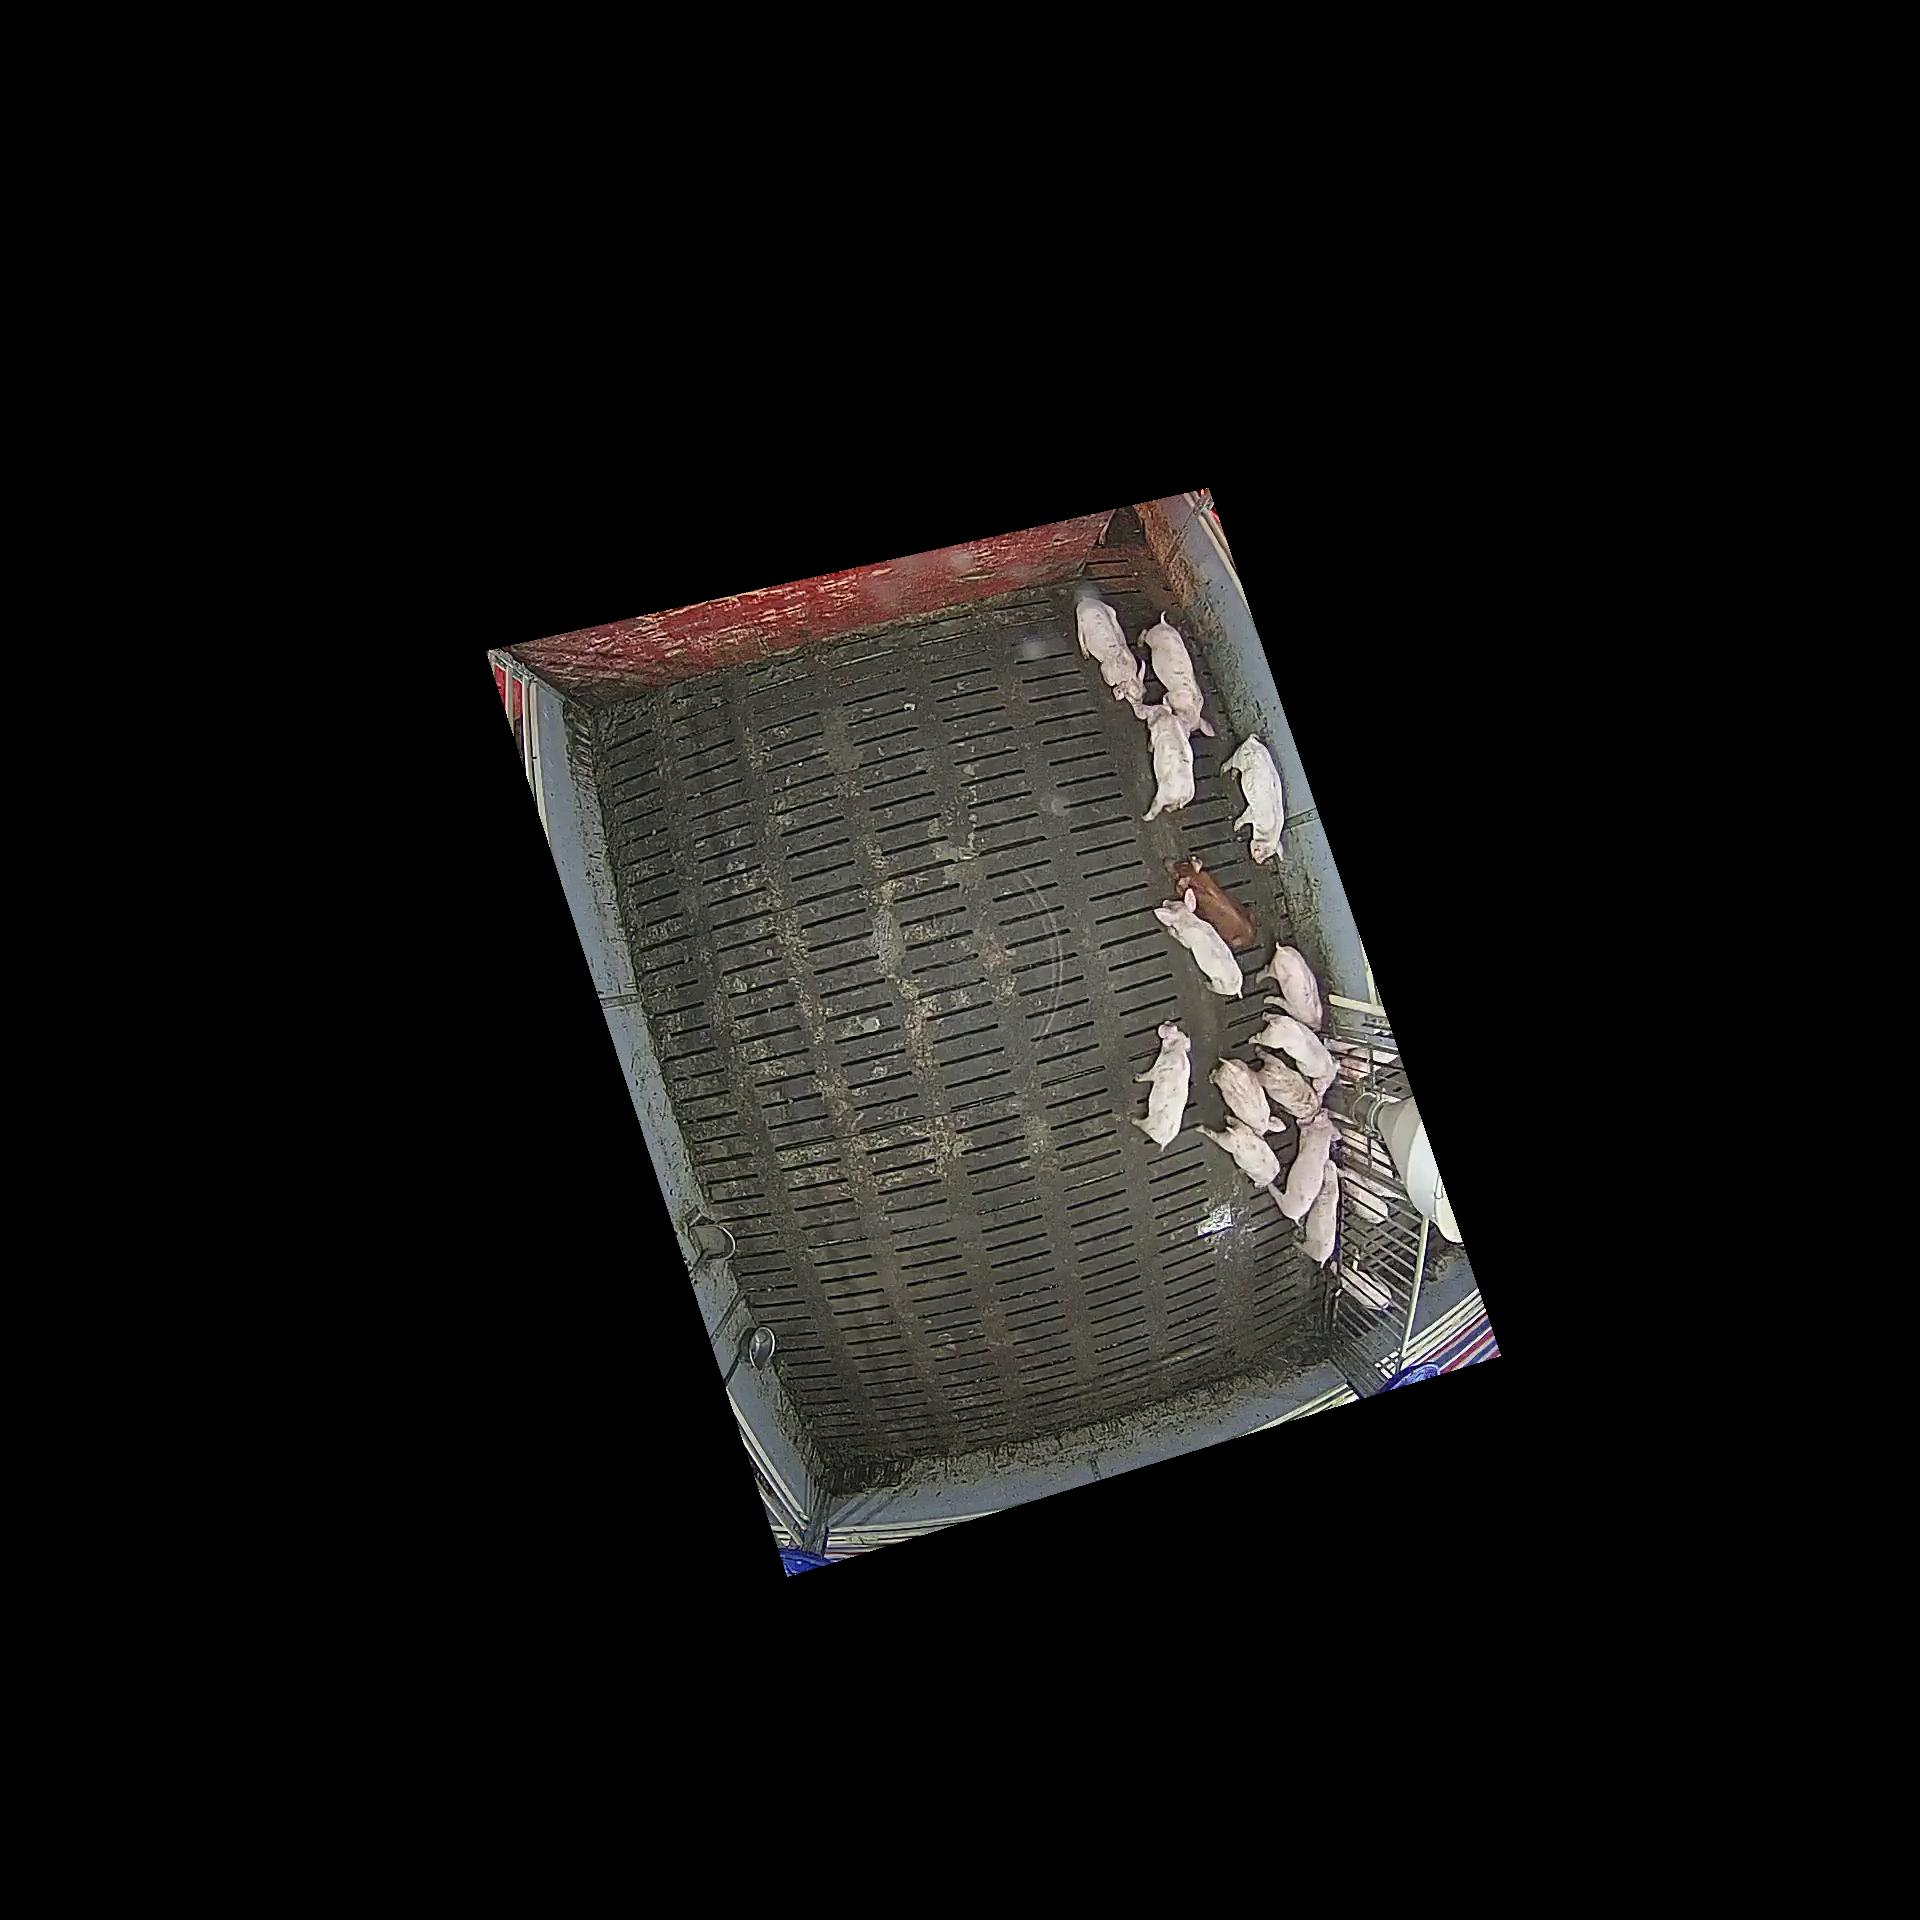pig: (1138, 610, 1215, 740), (1153, 888, 1243, 999), (1164, 855, 1259, 948), (1268, 1113, 1343, 1229), (1076, 593, 1148, 710), (1220, 735, 1285, 865), (1248, 1009, 1343, 1095), (1131, 1020, 1190, 1153), (1132, 696, 1196, 821), (1194, 1115, 1280, 1189), (1210, 1057, 1287, 1138), (1292, 1160, 1349, 1268), (1255, 942, 1322, 1030), (1255, 1046, 1322, 1120)
